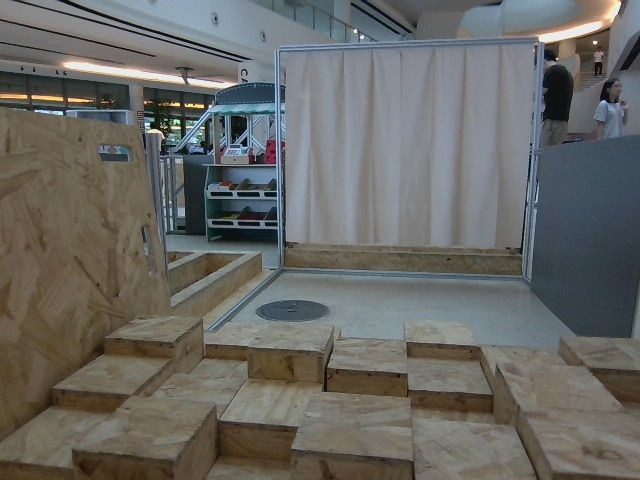curtain: (282, 48, 534, 262)
